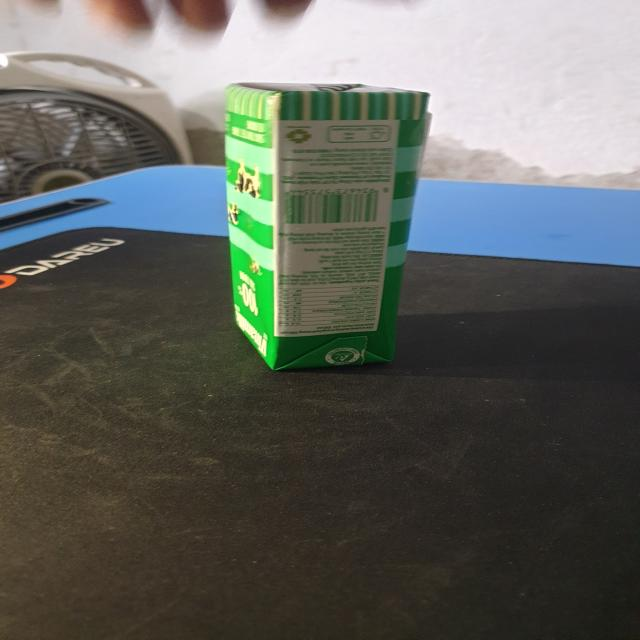Vina: (218, 80, 436, 374)
